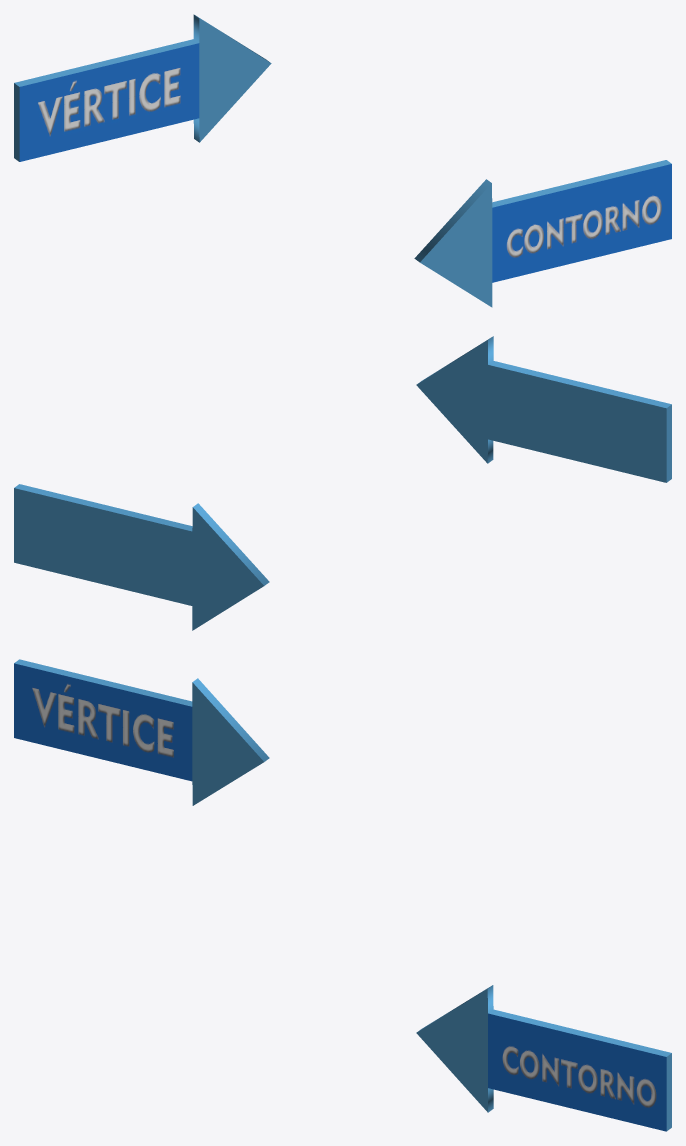
Rendered from let_cono.fbx.
3 views of the same model, one above another, from view 1: azimuth 30°, elevation 25°; view 2: azimuth 150°, elevation 25°; view 3: azimuth 330°, elevation 25° (orthographic).
Parts seen in each view (by area): view 1: polySurface88, polySurface92; view 2: polySurface88, polySurface92; view 3: polySurface88, polySurface92.
Boxes of the visible parts, x1=… form: polySurface88: x1=14, y1=14, x2=271, y2=161; polySurface92: x1=414, y1=160, x2=671, y2=307; polySurface88: x1=416, y1=336, x2=671, y2=482; polySurface92: x1=14, y1=484, x2=269, y2=630; polySurface88: x1=14, y1=659, x2=269, y2=805; polySurface92: x1=416, y1=985, x2=671, y2=1131.
Bounding box in the file's own units: 10.83 × 5.74 × 0.2236.
Materials: 3 (2 with a texture image).
